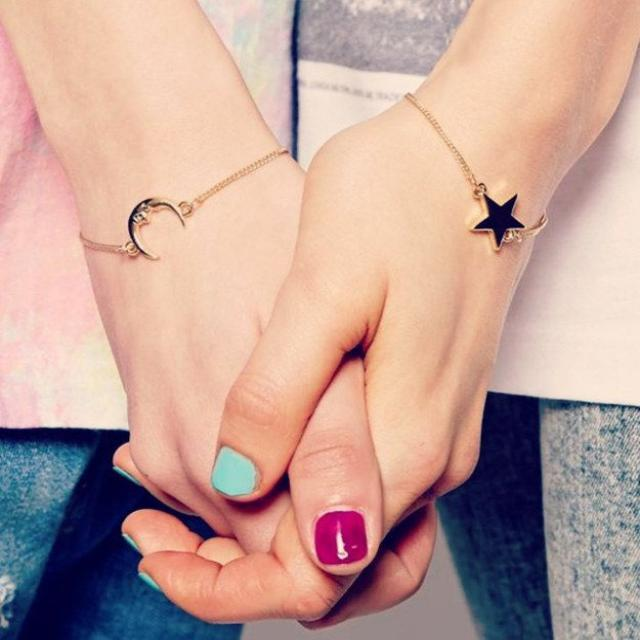Nail: (316, 511, 366, 564), (211, 446, 259, 498), (114, 464, 139, 485), (139, 569, 159, 590), (122, 531, 139, 552), (130, 460, 133, 469)
